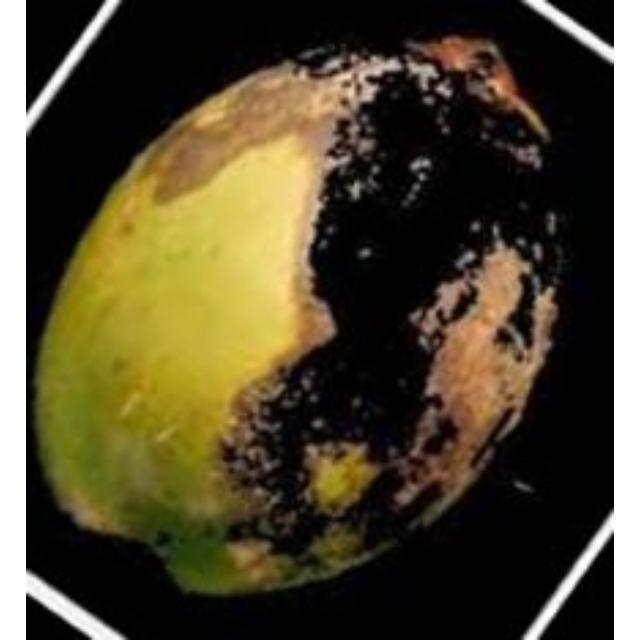damaged: (34, 36, 576, 596)
